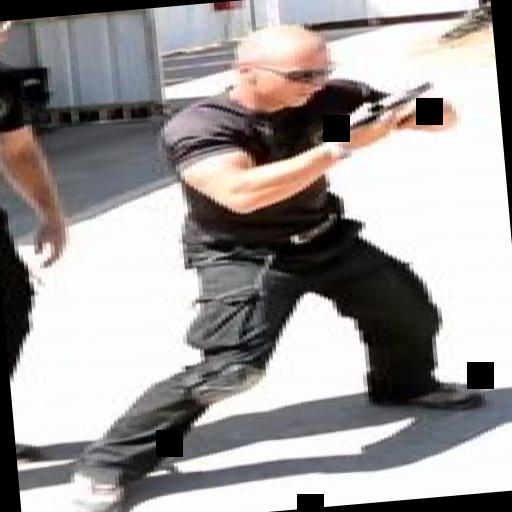Handgun: (322, 77, 438, 141)
